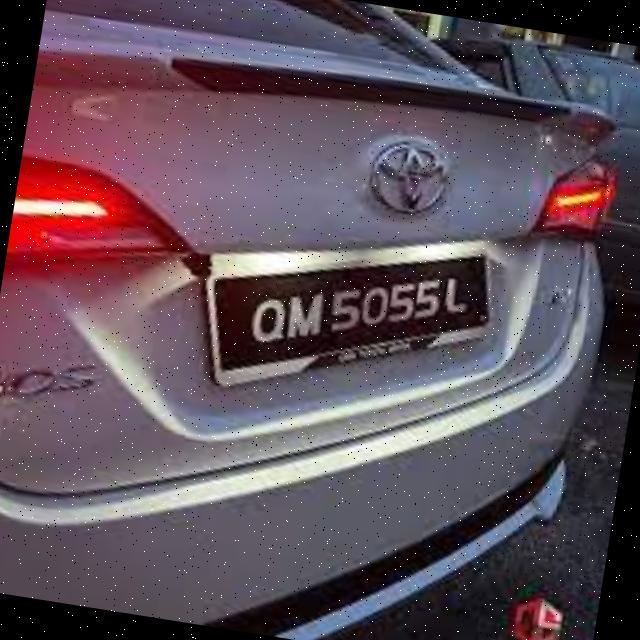License_Plate: (206, 193, 480, 438)
